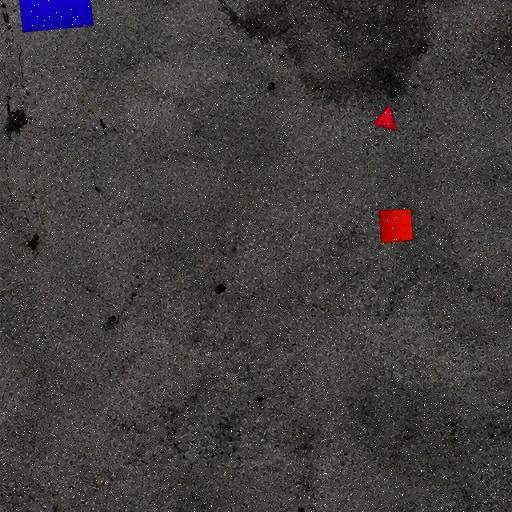BLUE_SQUARE: (16, 0, 94, 34)
RED_SQUARE: (378, 208, 414, 243)
